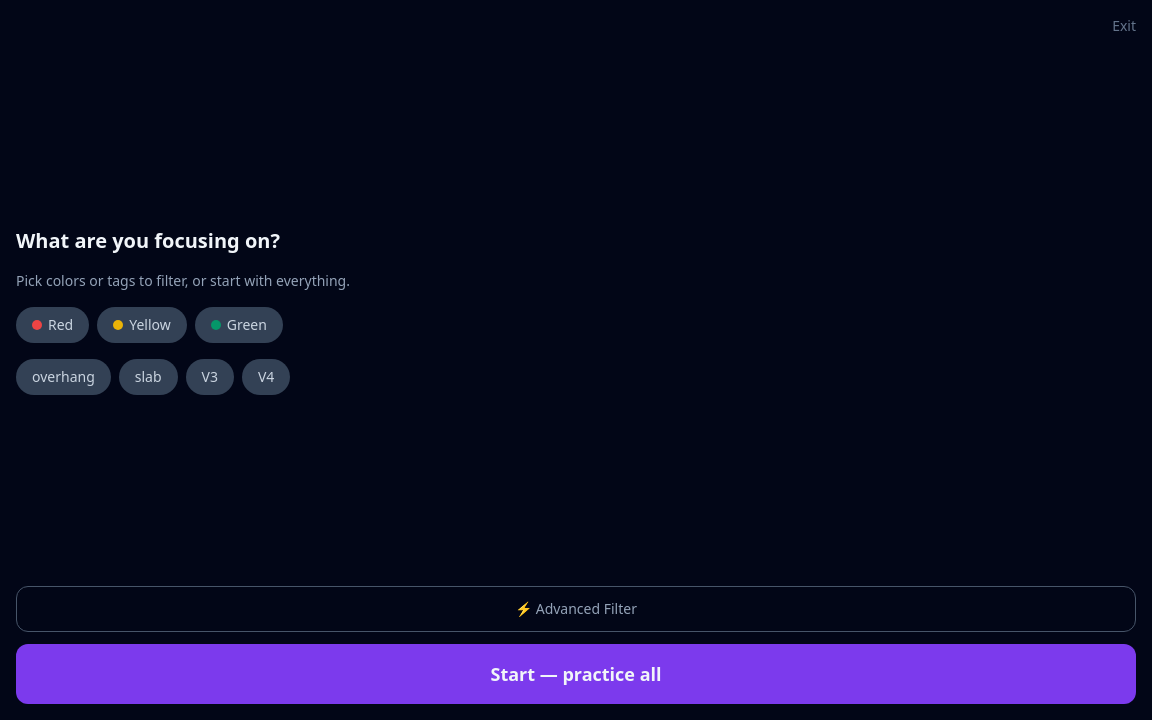
Test: "Choose filter before each item" setting › when on, Save leads to the filter step with the current filter selected
Click the button "V3".
click(210, 377)  # box [186,359,234,395]
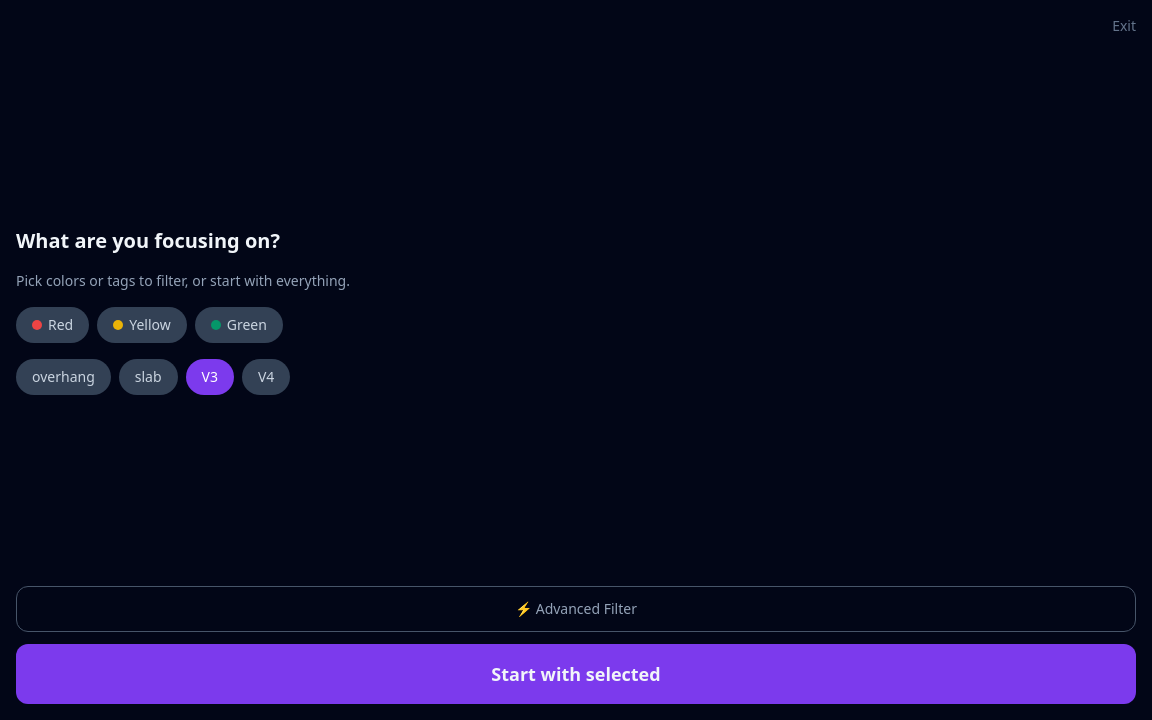
Click the button "Start with selected".
click(576, 674)  # box [16,644,1136,704]
Wait 600 ms
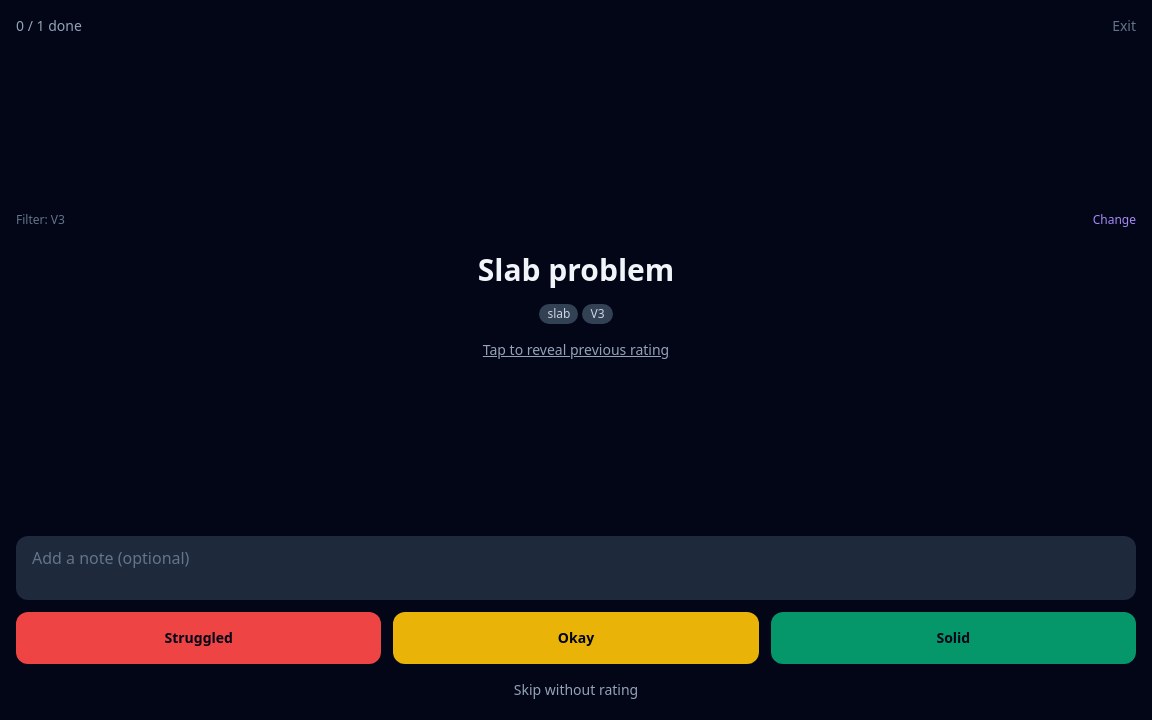
Click the button "Solid".
click(953, 638)  # box [771,612,1136,664]
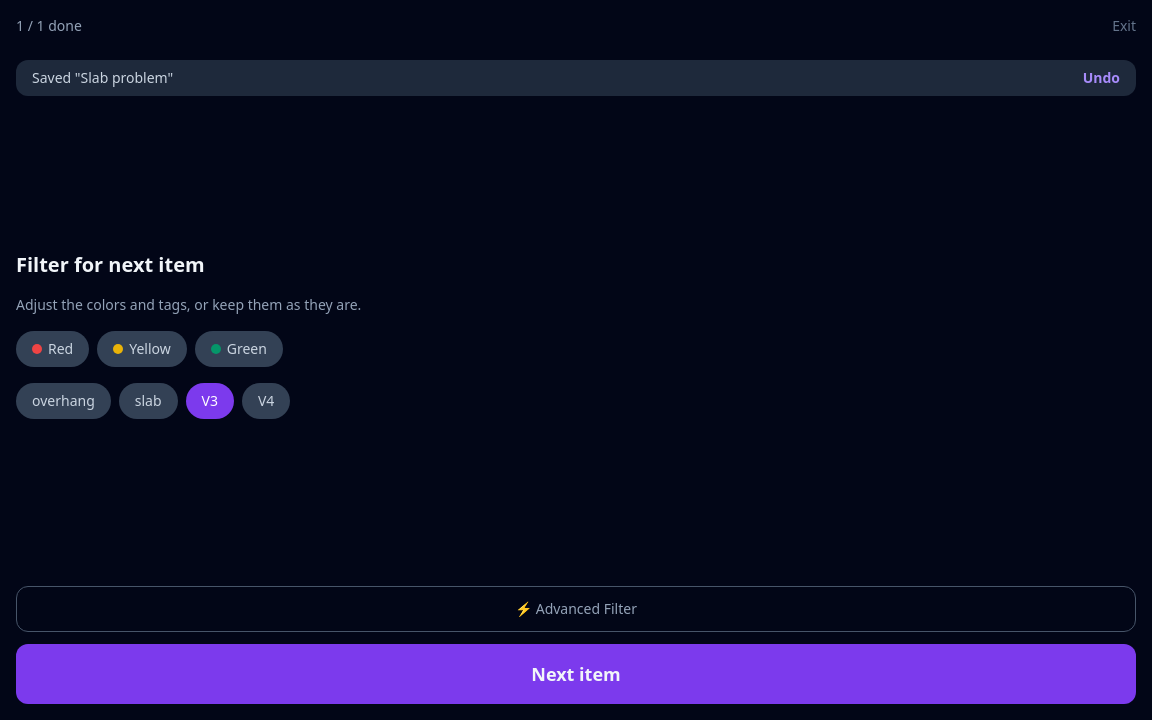
expect the heading "Filter for next item" is shown: met, box [16,251,205,278]
Click the button "V3".
click(210, 401)  # box [186,383,234,419]
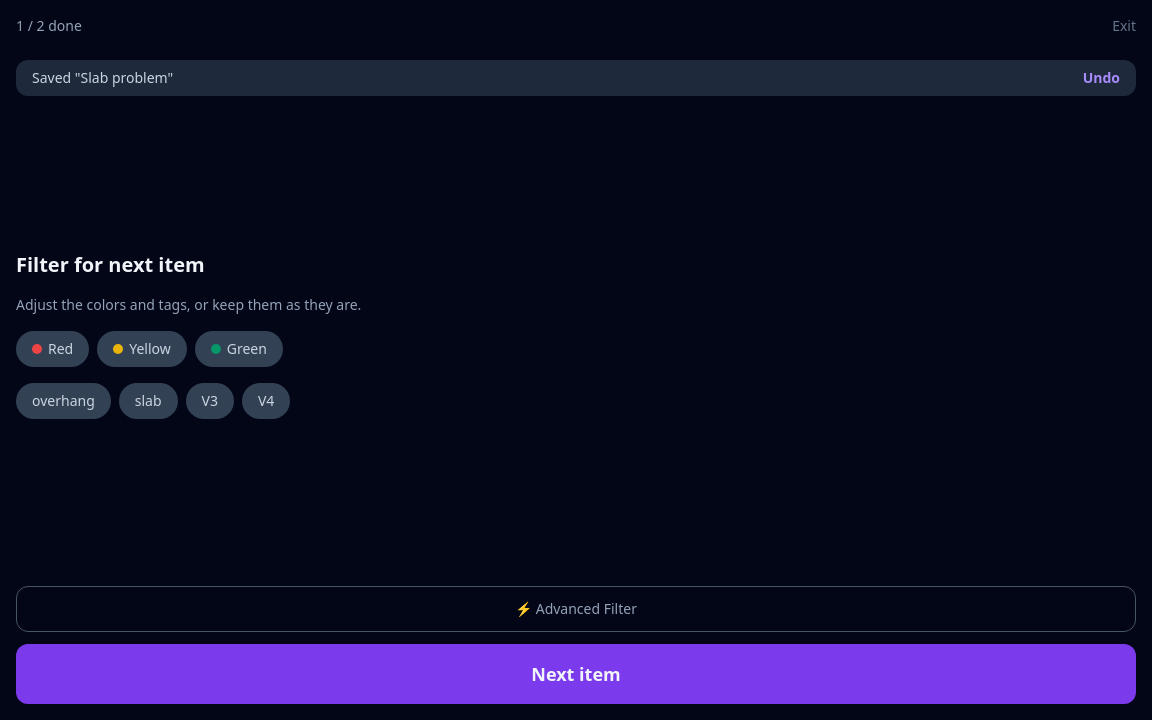
Click the button "V4".
click(266, 401)  # box [242,383,290,419]
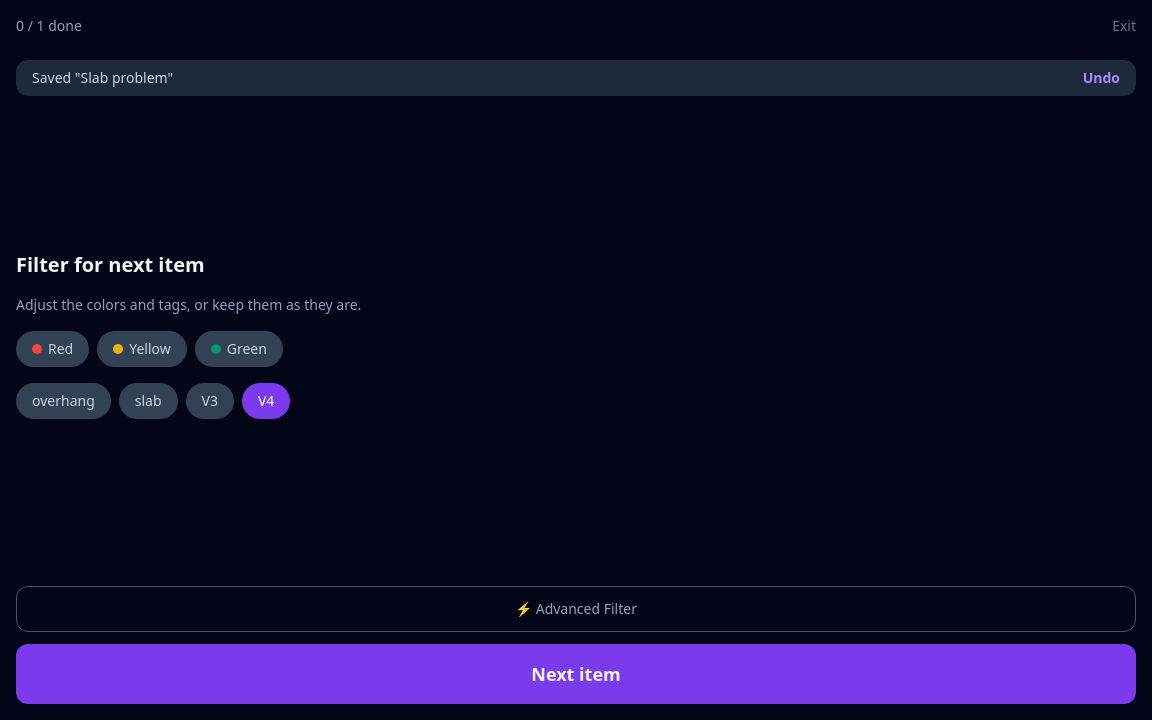
Click the button "Next item".
click(576, 674)  # box [16,644,1136,704]
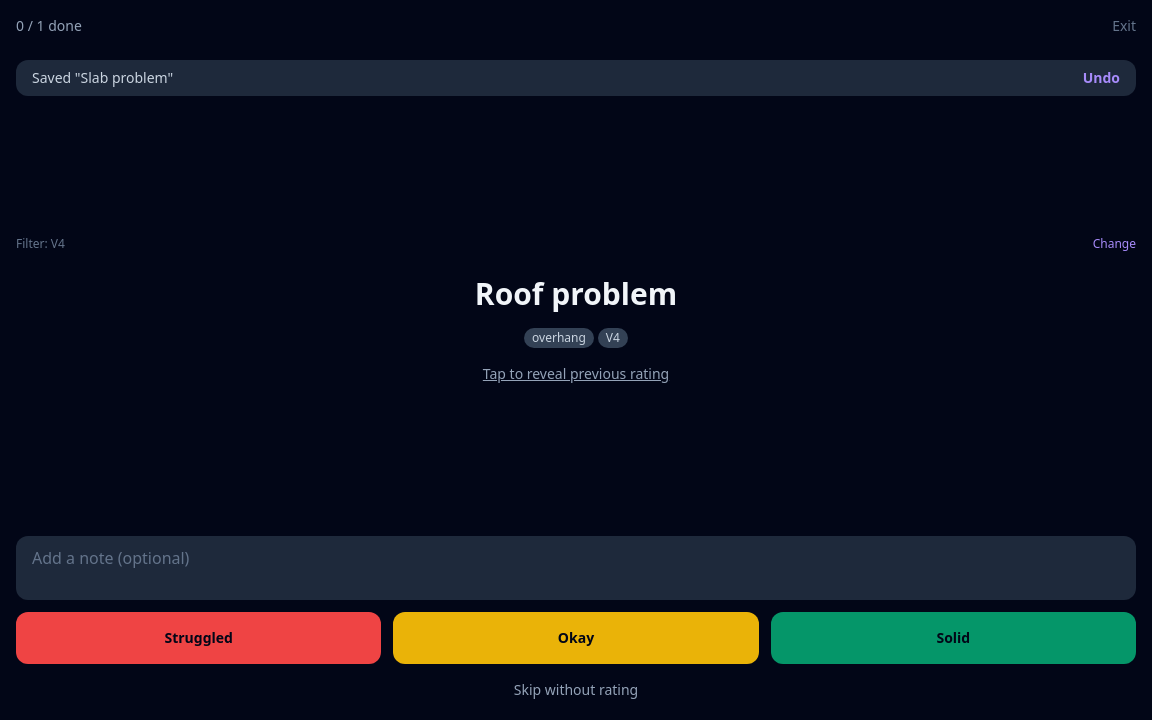
expect the text "Roof problem" is shown: met, box [475,276,677,312]
